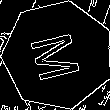M_E: (27, 27, 88, 84)
